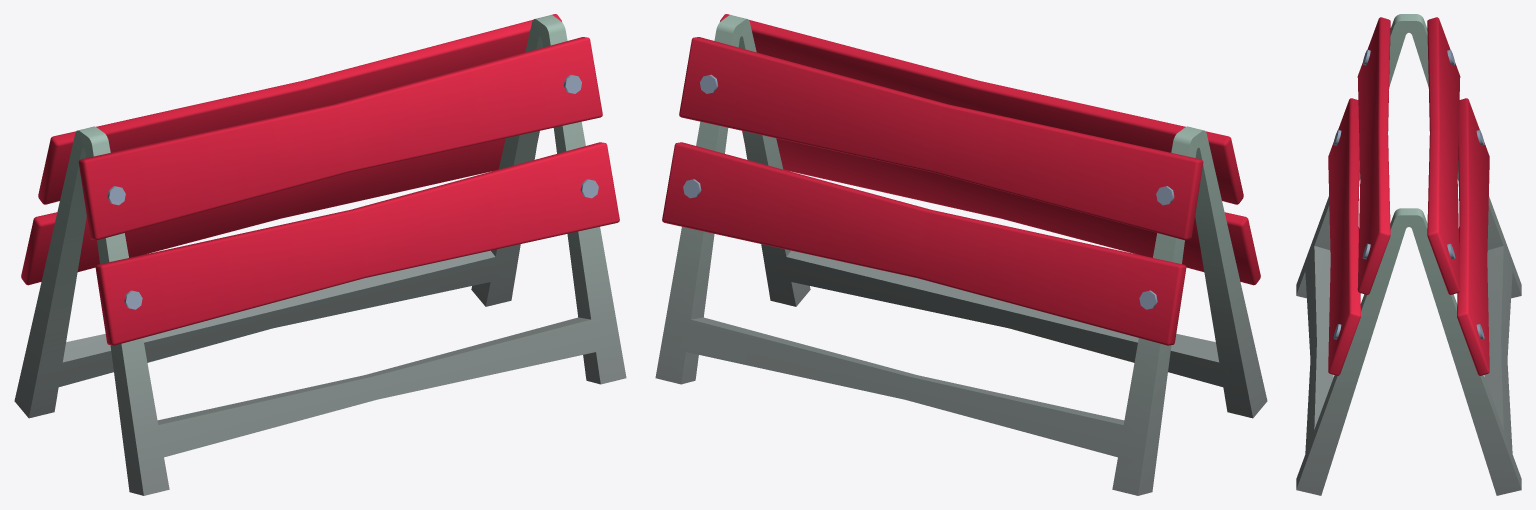
Rendered from Obs_19.fbx.
3 renders of one model, left to right at view 1: azimuth 30°, elevation 25°; view 2: azimuth 150°, elevation 25°; view 3: azimuth 270°, elevation 25°, orthographic. The views are drawn at different scales.
Parts seen in each view (by area): view 1: Obs_19_01, Obs_19; view 2: Obs_19_01, Obs_19; view 3: Obs_19_01, Obs_19.
Part boxes in pixels (x1=…): Obs_19_01: x1=21, y1=14, x2=619, y2=345; Obs_19: x1=14, y1=15, x2=626, y2=495; Obs_19_01: x1=662, y1=14, x2=1260, y2=345; Obs_19: x1=655, y1=15, x2=1267, y2=495; Obs_19_01: x1=1328, y1=17, x2=1489, y2=375; Obs_19: x1=1296, y1=14, x2=1521, y2=495.
Size of the model in its own units: 2.22 by 1.34 by 0.9818.
